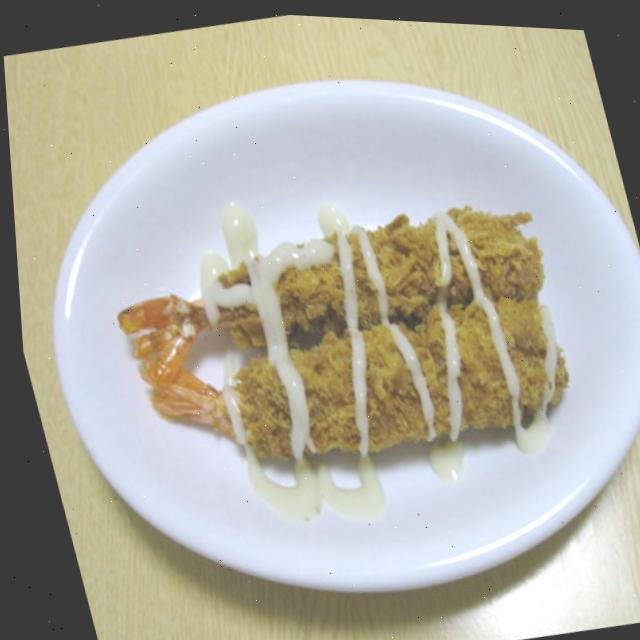炸货点心: (40, 113, 617, 538)
熟制海鲜: (40, 113, 617, 538)
